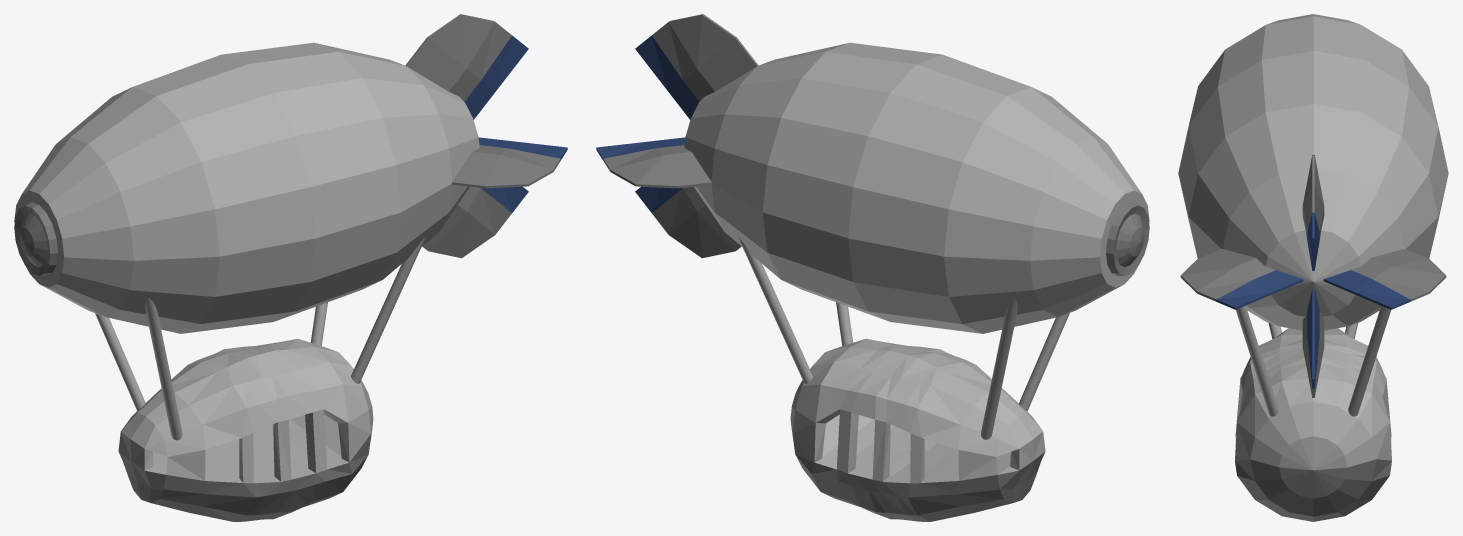
The model's file is Airship.obj.
3 views of the same model, side by side, from view 1: azimuth 30°, elevation 25°; view 2: azimuth 150°, elevation 25°; view 3: azimuth 270°, elevation 25° (orthographic).
Visible parts, largest first — view 1: 球.009; view 2: 球.009; view 3: 球.009.
Part boxes in pixels (x1=…): 球.009: x1=14, y1=14, x2=567, y2=521; 球.009: x1=596, y1=14, x2=1149, y2=521; 球.009: x1=1178, y1=14, x2=1448, y2=521.
Size of the model in its own units: 4.48 by 3.82 by 2.1.
Materials: 1 (1 with a texture image).
